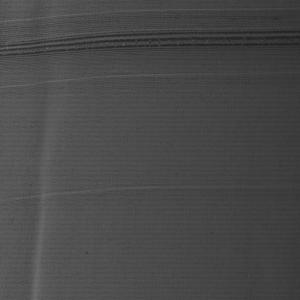Wrinkle: (17, 1, 63, 300)
